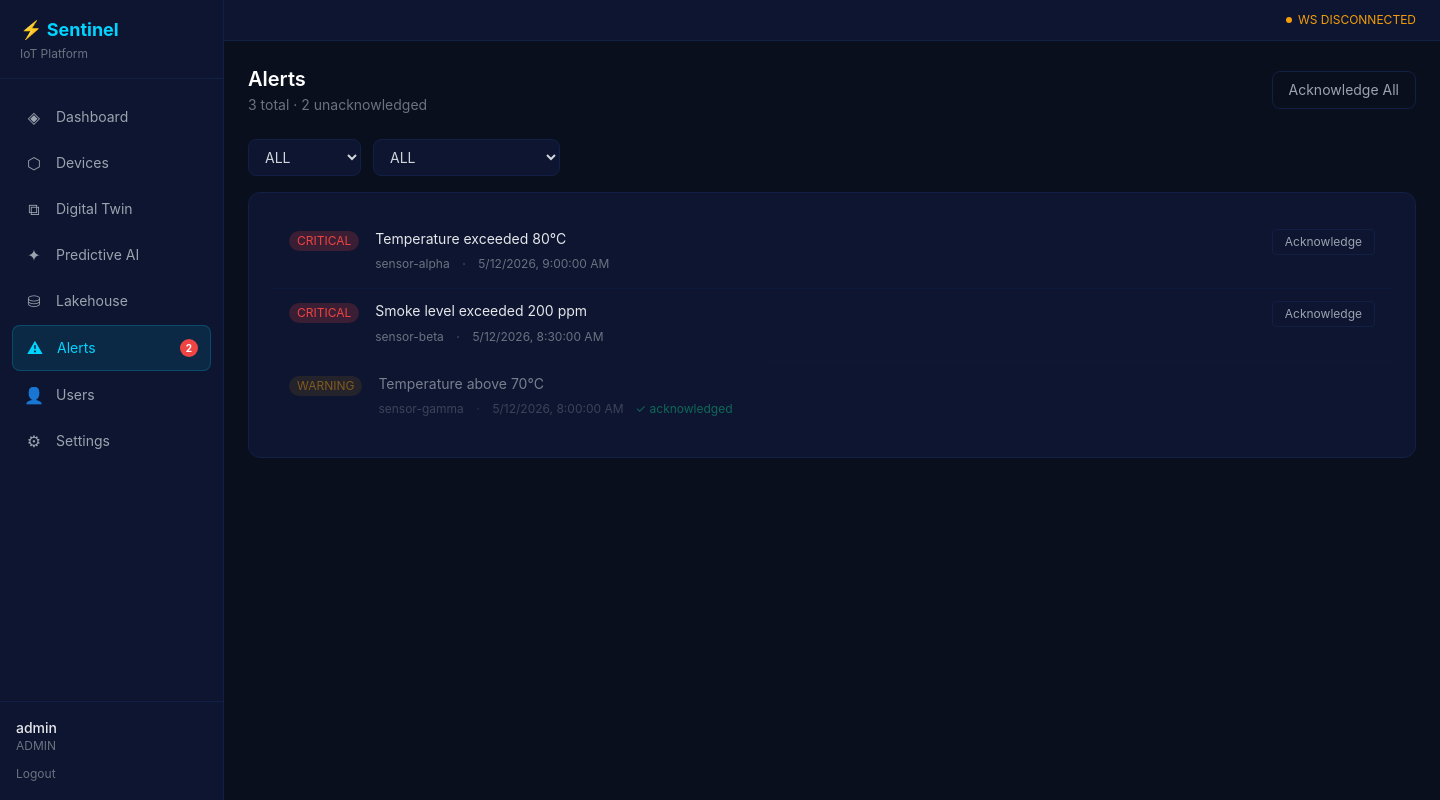
it: Alerts Page (/alerts) › Clear button resets both level and status filters
The width and height of the screenshot is (1440, 800).
Select "CRITICAL" in the 1st dropdown at (305, 158), box [248,139,361,176]
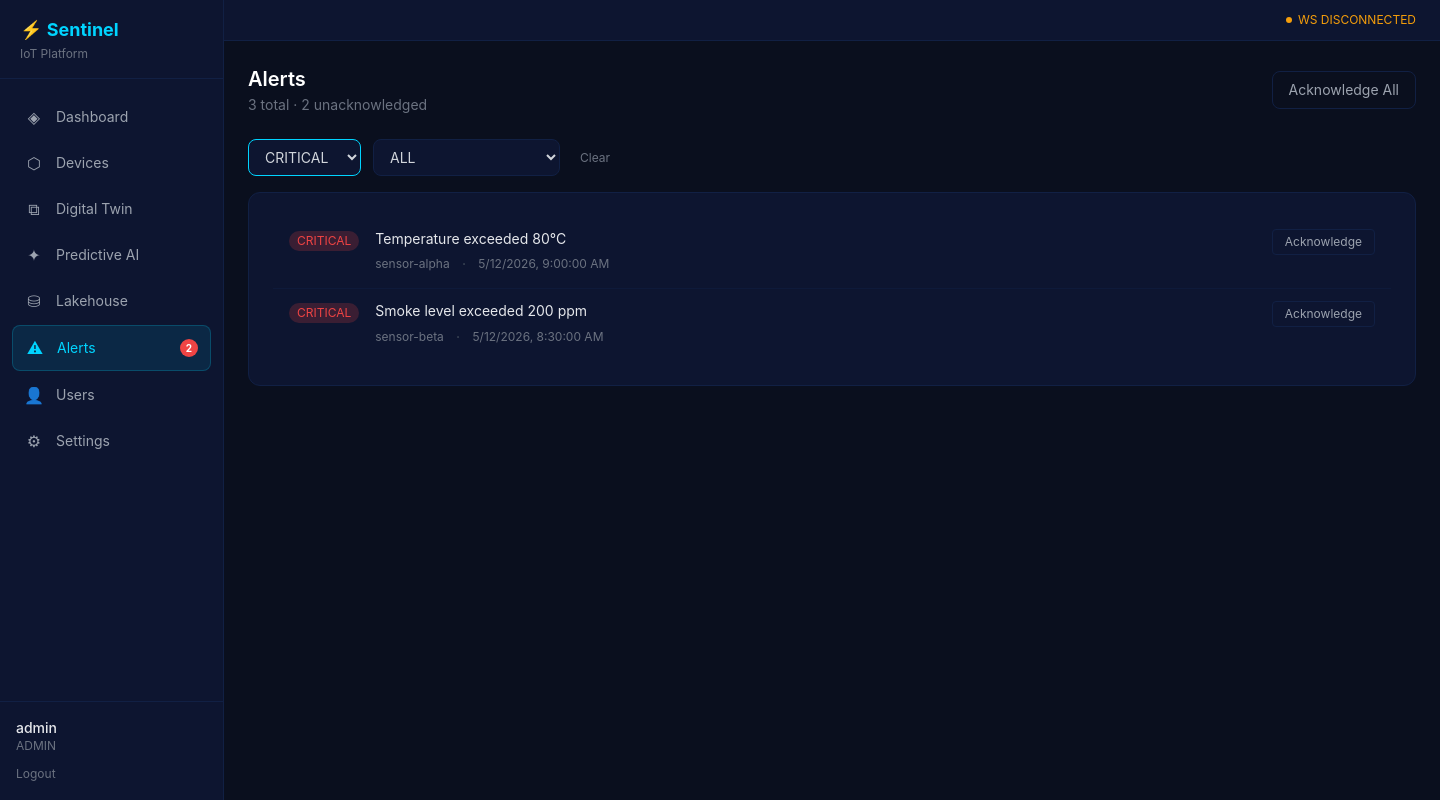
Result: the text "Temperature above 70°C" is gone
Click the button "Clear" at (595, 158), box [572,139,618,176]
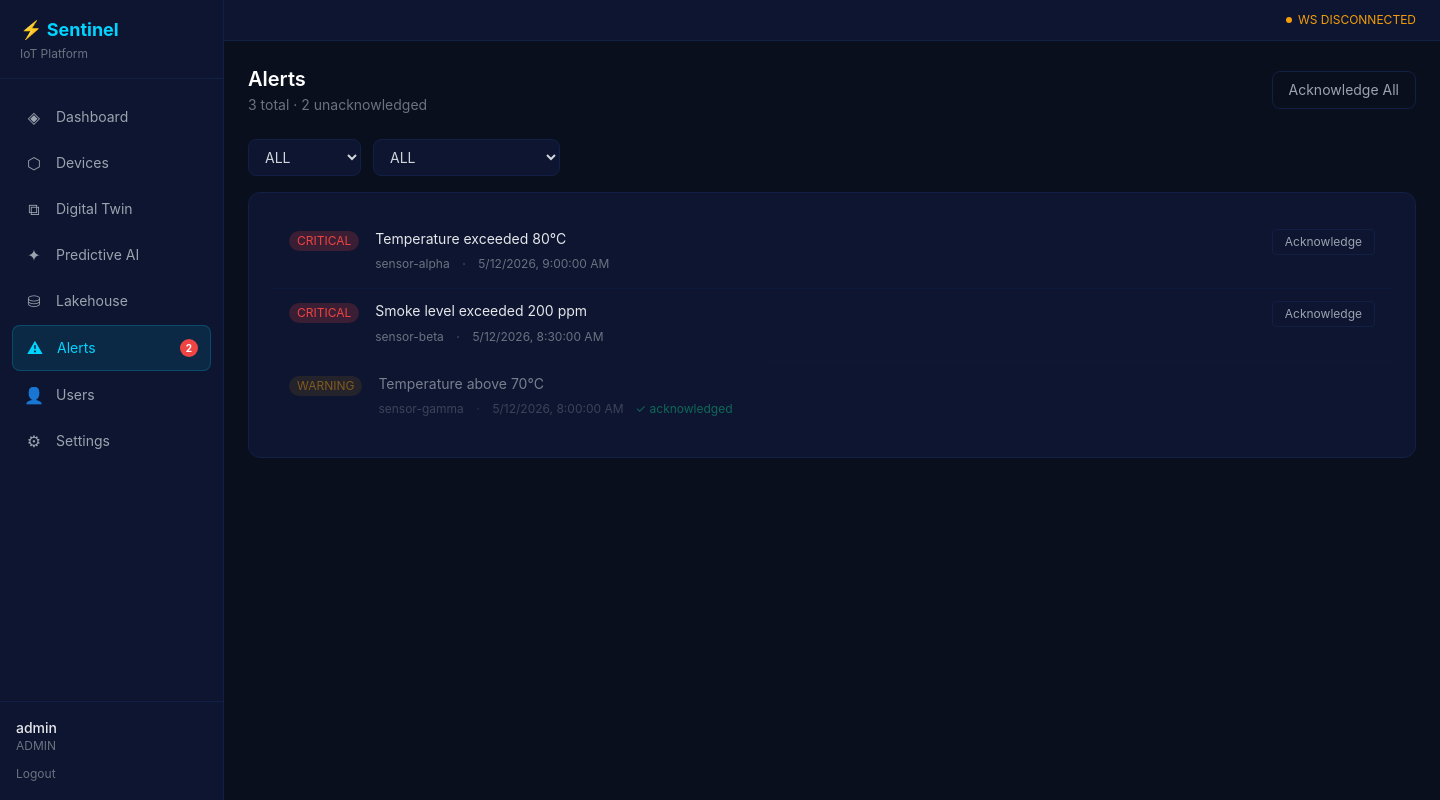
Result: the text "Temperature above 70°C" is shown at [378,374,544,392]
